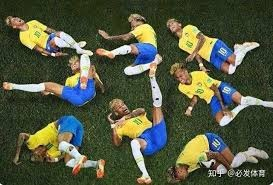falling: (165, 126, 269, 181)
